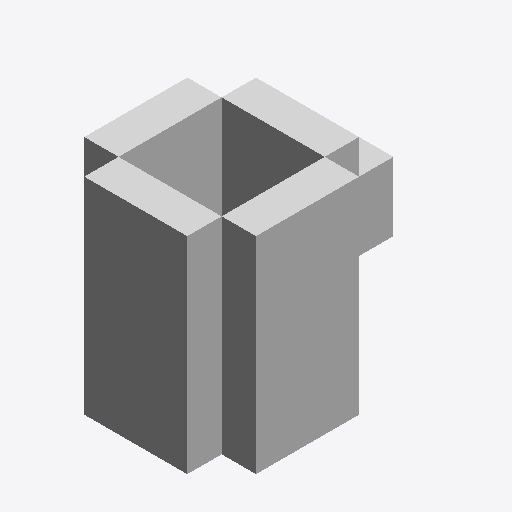
Isometric view (azimuth 45°, elevation 35.3°) of a Minecraft model made of 10 cuboids, textured from the same repository.
Visible parts, largest first — element 4, element 6, element 5, element 7, element 2, element 1, element 9.
Boxes of the visible parts, x1=… form: element 4: x1=84, y1=157, x2=221, y2=433; element 6: x1=222, y1=157, x2=358, y2=433; element 5: x1=84, y1=78, x2=221, y2=215; element 7: x1=222, y1=78, x2=358, y2=215; element 2: x1=84, y1=375, x2=221, y2=473; element 1: x1=222, y1=375, x2=358, y2=473; element 9: x1=359, y1=137, x2=392, y2=255.
Size of the model in its own units: 7 by 6 by 5.